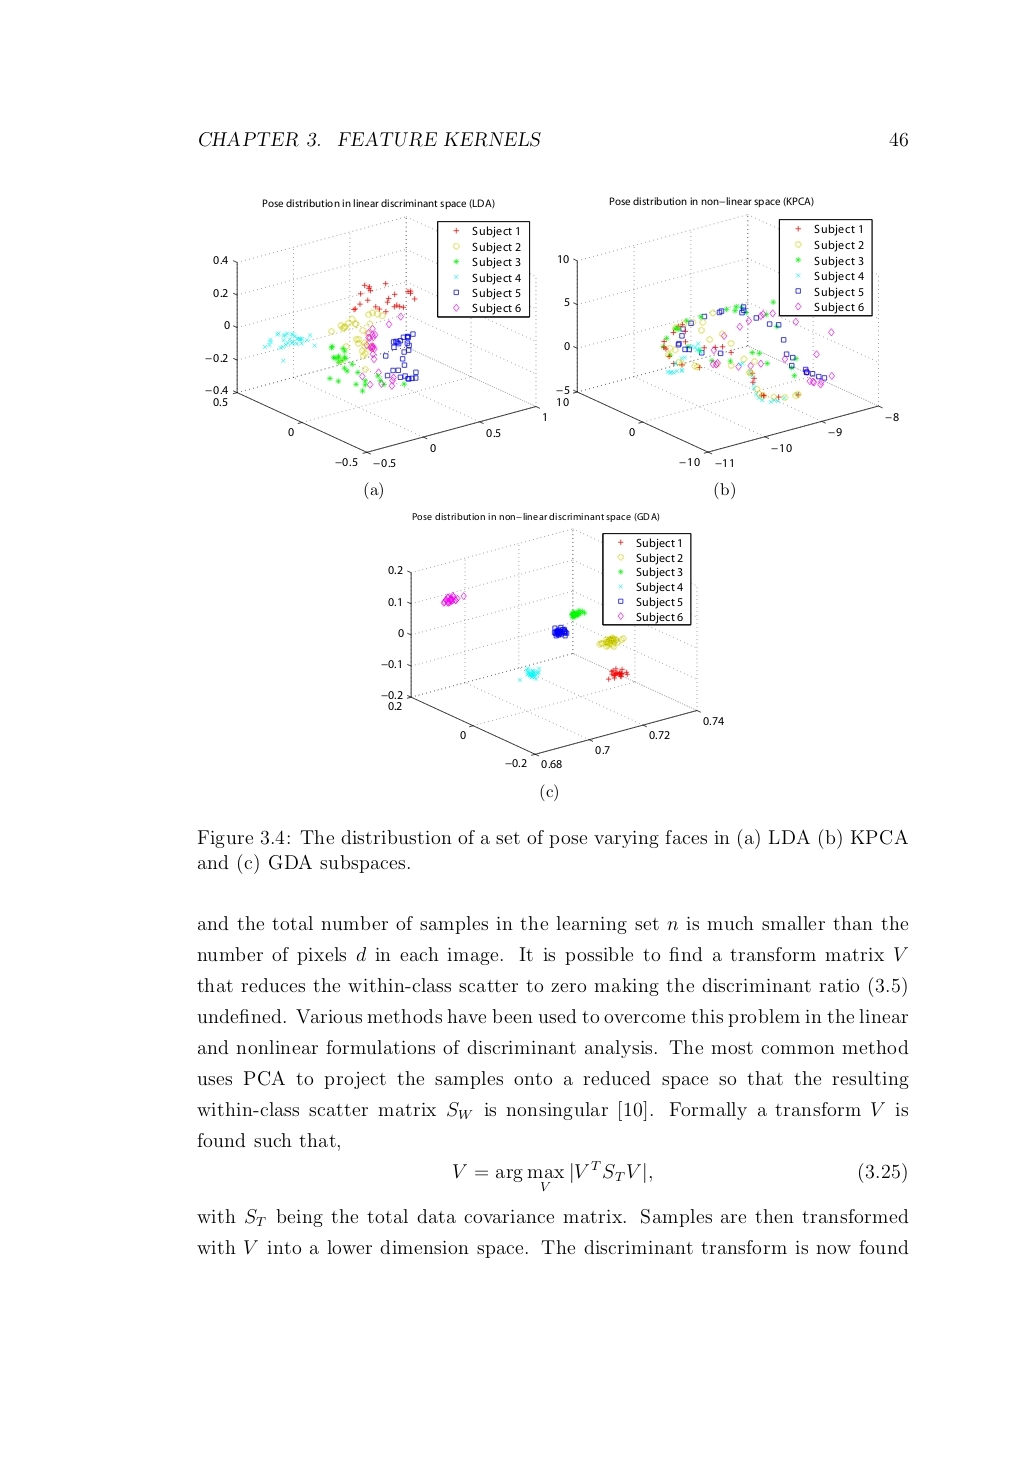figure: (556, 214, 898, 466), (205, 216, 545, 467), (380, 528, 723, 769)
formula: (453, 1160, 906, 1192)
